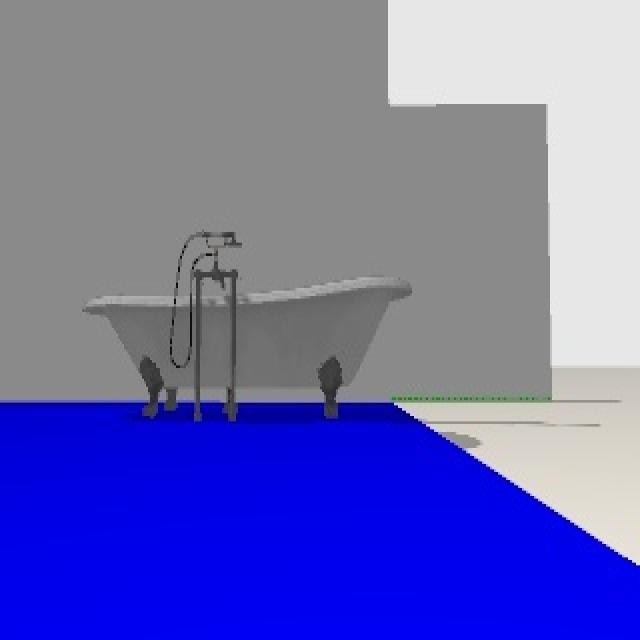bathtub: (82, 232, 414, 421)
